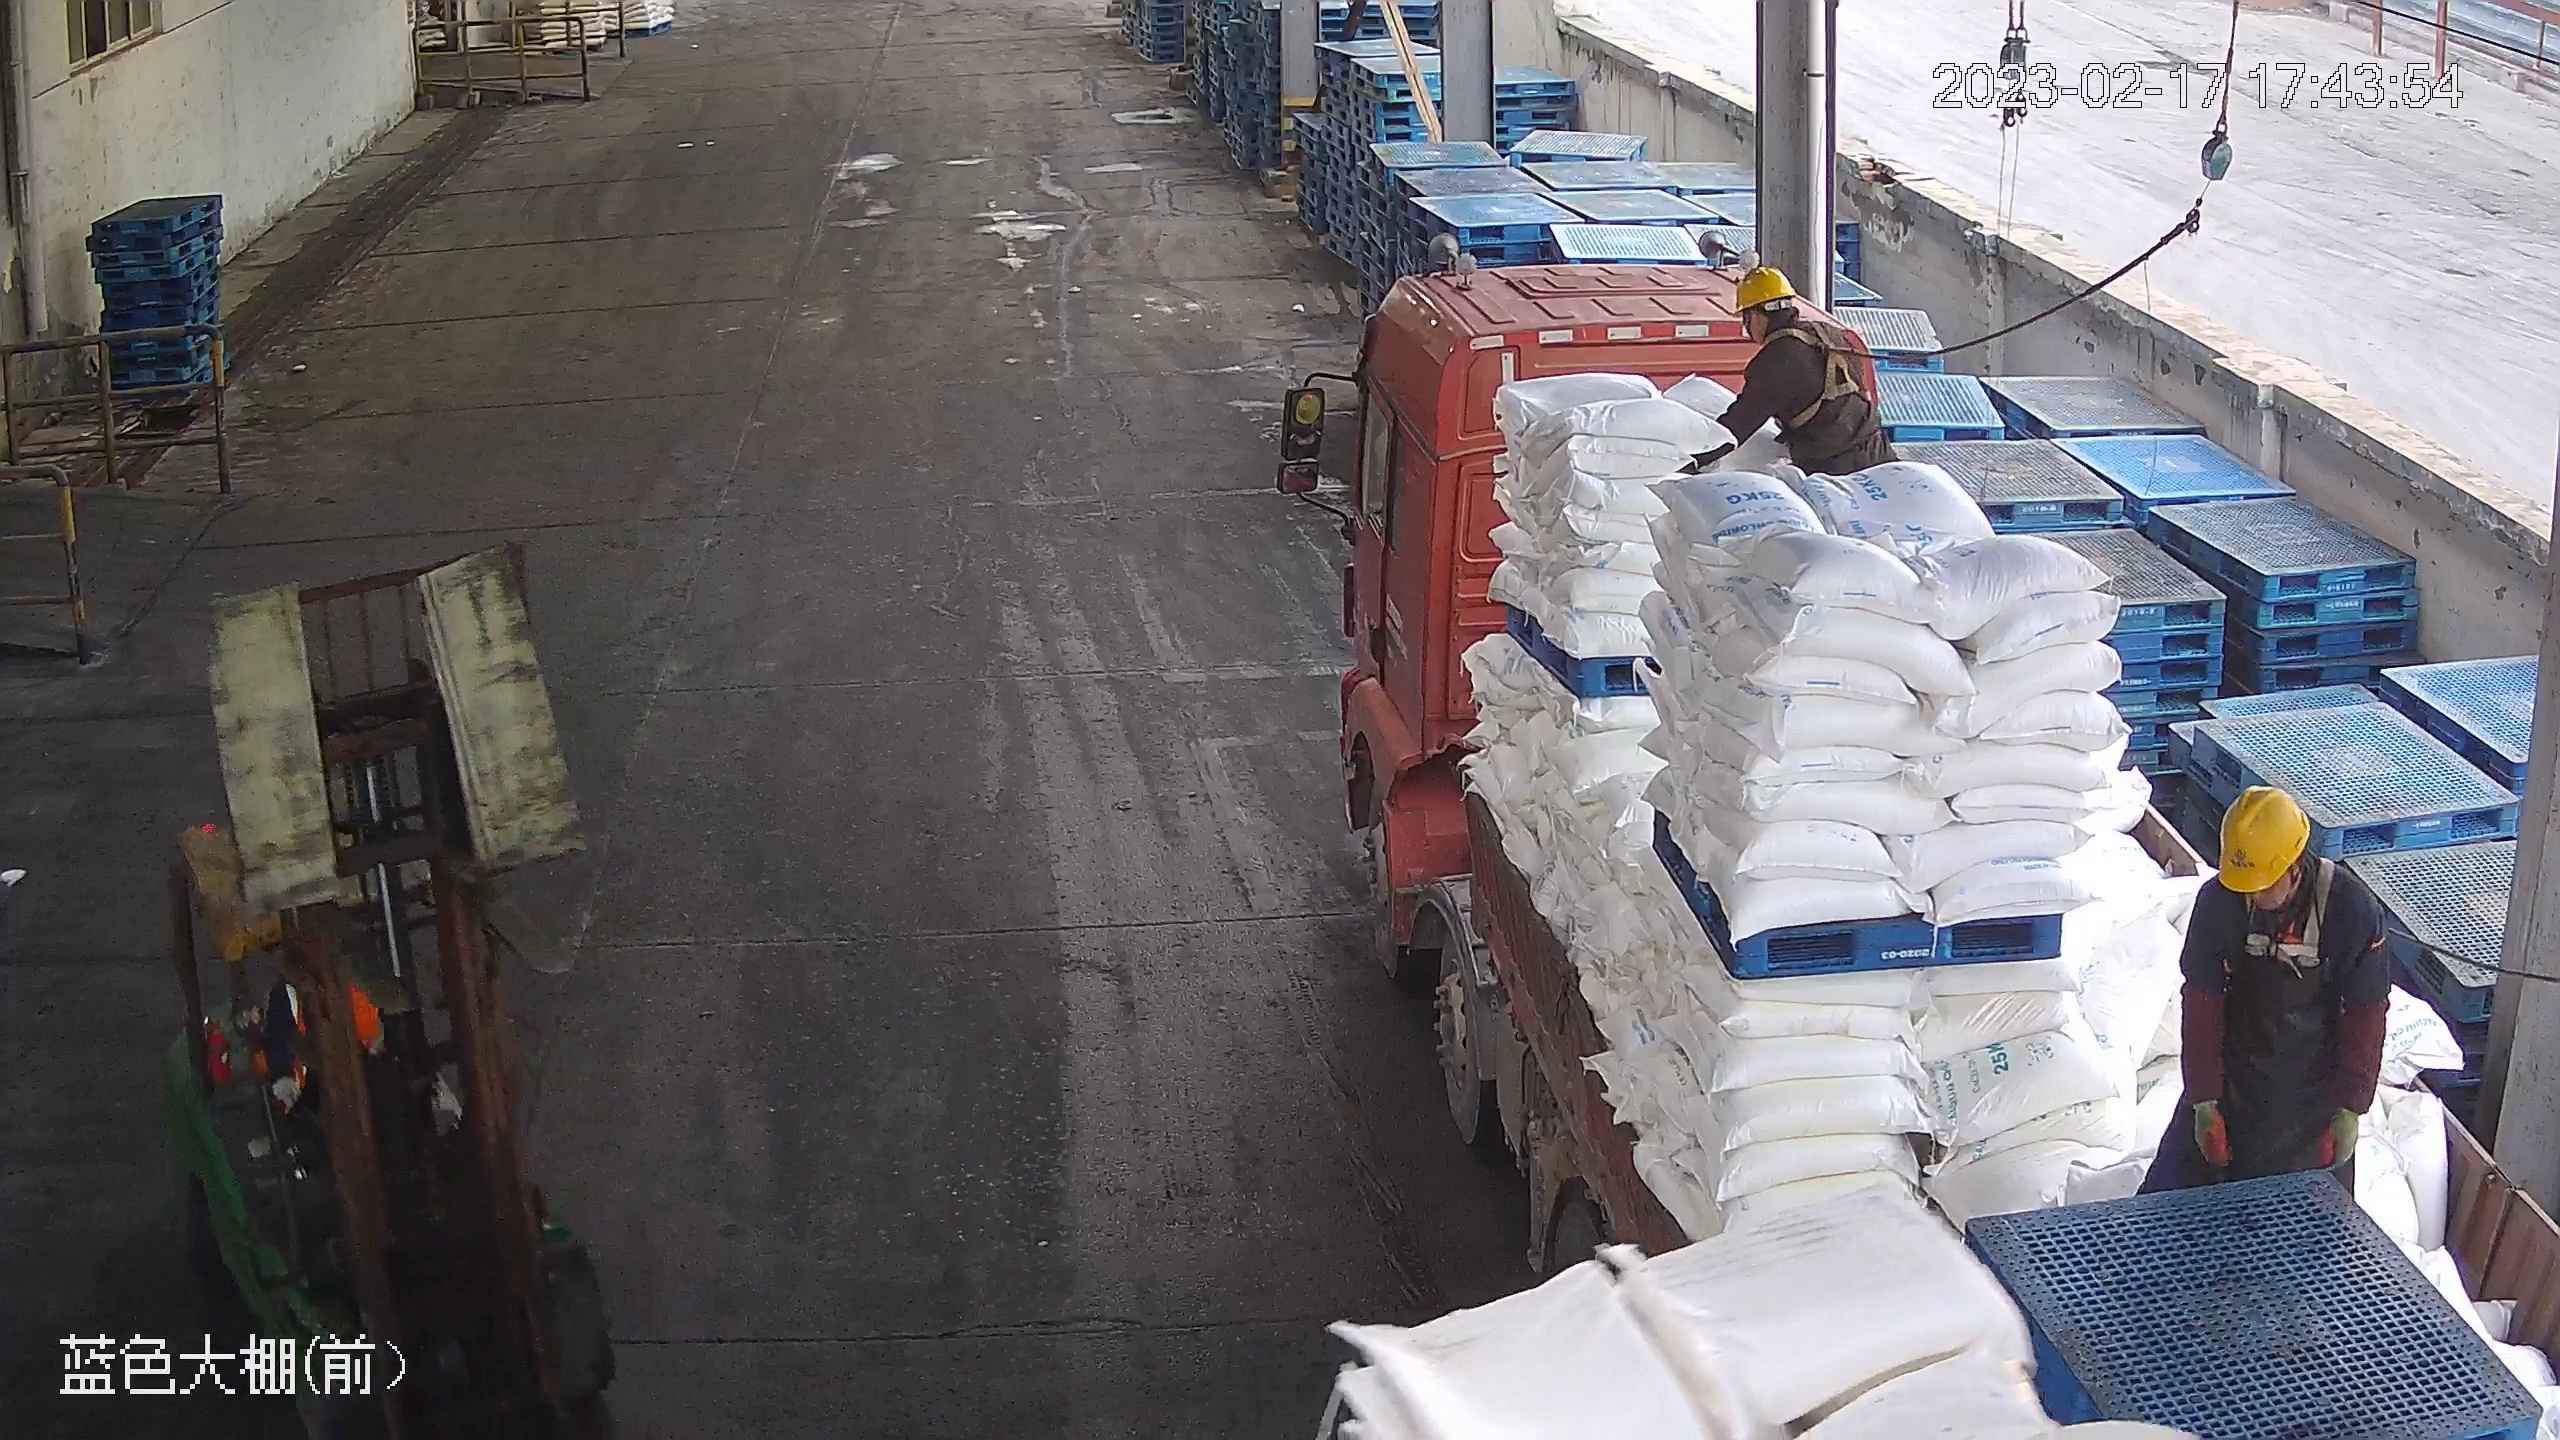belt: (1765, 317, 1871, 433), (2244, 860, 2334, 972)
head: (2173, 787, 2390, 974), (1728, 266, 1862, 417)
helmet: (2215, 784, 2308, 895), (1733, 263, 1799, 316)
people: (2128, 786, 2393, 1214), (1680, 265, 1906, 480)
truck: (1279, 261, 2560, 1440)
